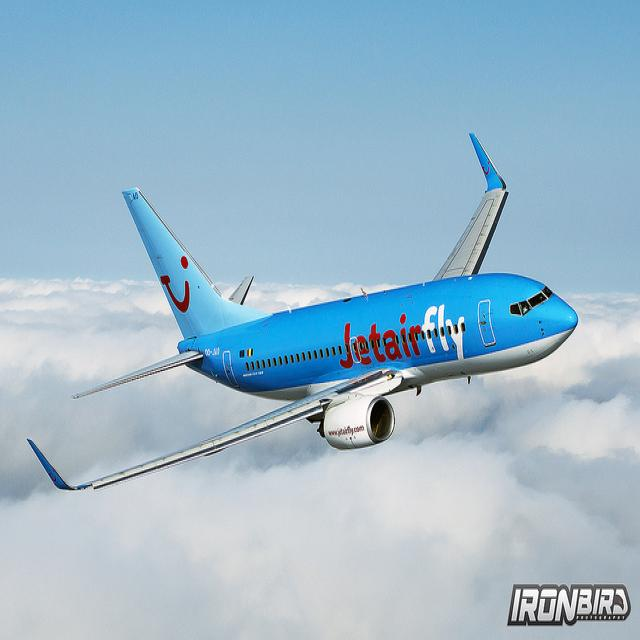airplane: (26, 130, 579, 494)
